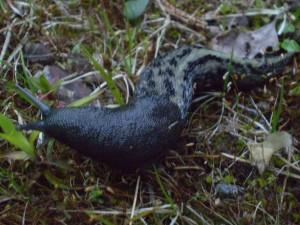slug: (10, 17, 288, 177)
